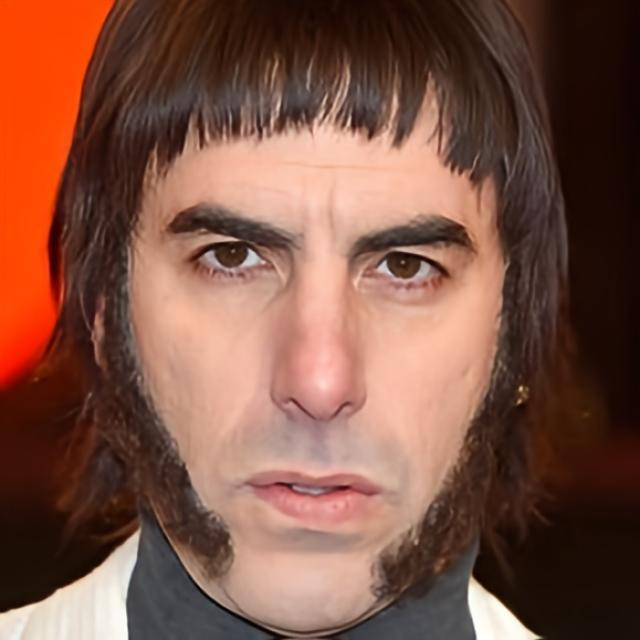anger: (127, 96, 503, 587)
